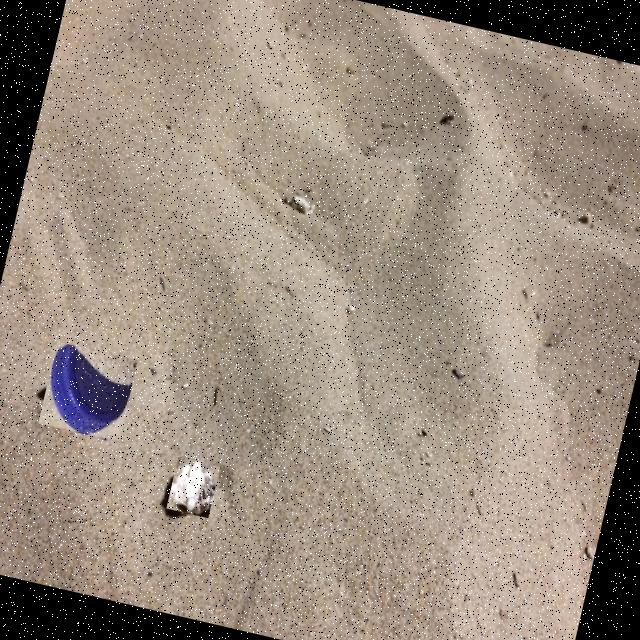Plastic bottle cap: (50, 345, 129, 434)
Styrofoam piece: (171, 461, 214, 514)
